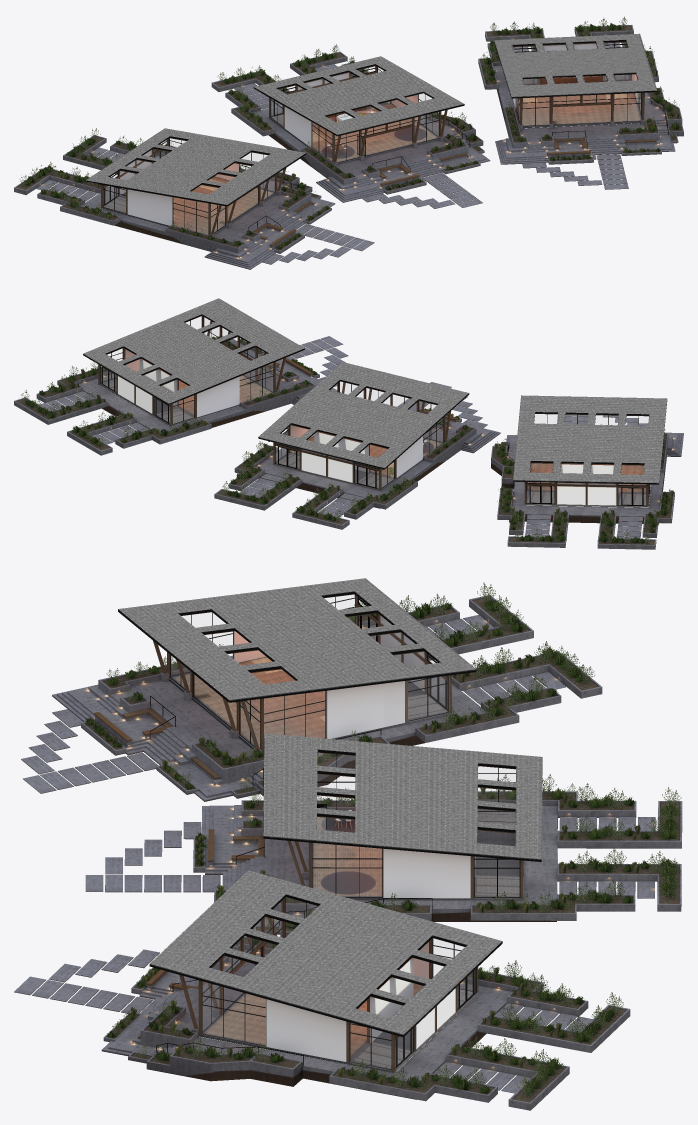
The model's file is AborXR_Lounge.gltf.
3 renders of one model, top to bottom at view 1: azimuth 30°, elevation 25°; view 2: azimuth 150°, elevation 25°; view 3: azimuth 270°, elevation 25°, orthographic. The views are drawn at different scales.
Parts seen in each view (by area): view 1: Landscaping.005, Roof, Floor, Plants, Framing, Walls.002, WindowsFrames, Glass.001, Glass, Glass.002, Cube.002; view 2: Roof, Landscaping.005, Plants, Floor, Walls.002, Framing, Cube.002, Glass.002, WindowsFrames, Glass, Glass.001; view 3: Landscaping.005, Roof, Plants, Floor, Walls.002, Glass.002, Glass.001, Glass, Framing, WindowsFrames, Cube.002, Rug_02_Baked_Baked_Baked.
Part boxes in pixels (left/top/right/bottom): Landscaping.005: left=14, top=25, right=683, bottom=269; Roof: left=85, top=33, right=657, bottom=206; Floor: left=101, top=74, right=641, bottom=234; Plants: left=20, top=16, right=680, bottom=249; Framing: left=101, top=41, right=644, bottom=236; Walls.002: left=127, top=74, right=638, bottom=225; WindowsFrames: left=103, top=42, right=641, bottom=232; Glass.001: left=104, top=139, right=275, bottom=234; Glass: left=271, top=67, right=438, bottom=161; Glass.002: left=514, top=43, right=640, bottom=125; Cube.002: left=120, top=43, right=597, bottom=195; Roof: left=83, top=298, right=667, bottom=484; Landscaping.005: left=14, top=336, right=683, bottom=549; Plants: left=21, top=336, right=674, bottom=543; Floor: left=98, top=375, right=651, bottom=507; Walls.002: left=125, top=349, right=650, bottom=493; Framing: left=90, top=316, right=650, bottom=506; Cube.002: left=118, top=376, right=616, bottom=505; Glass.002: left=100, top=317, right=272, bottom=423; WindowsFrames: left=100, top=316, right=649, bottom=506; Glass: left=276, top=382, right=442, bottom=487; Glass.001: left=527, top=414, right=648, bottom=504; Landscaping.005: left=14, top=595, right=682, bottom=1110; Roof: left=118, top=578, right=542, bottom=1037; Plants: left=85, top=582, right=681, bottom=1097; Floor: left=169, top=656, right=523, bottom=1073; Walls.002: left=233, top=631, right=475, bottom=1061; Glass.002: left=202, top=898, right=475, bottom=1069; Glass.001: left=171, top=595, right=449, bottom=746; Glass: left=313, top=753, right=518, bottom=896; Framing: left=153, top=594, right=523, bottom=1070; WindowsFrames: left=170, top=594, right=520, bottom=1069; Cube.002: left=380, top=615, right=455, bottom=1048; Rug_02_Baked_Baked_Baked: left=320, top=871, right=375, bottom=894.
Size of the model in its own units: 95 by 7.37 by 52.86.
Materials: 13 (10 with a texture image).
